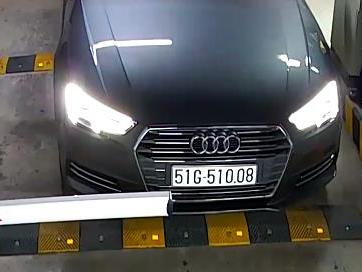number: (170, 163, 257, 187)
